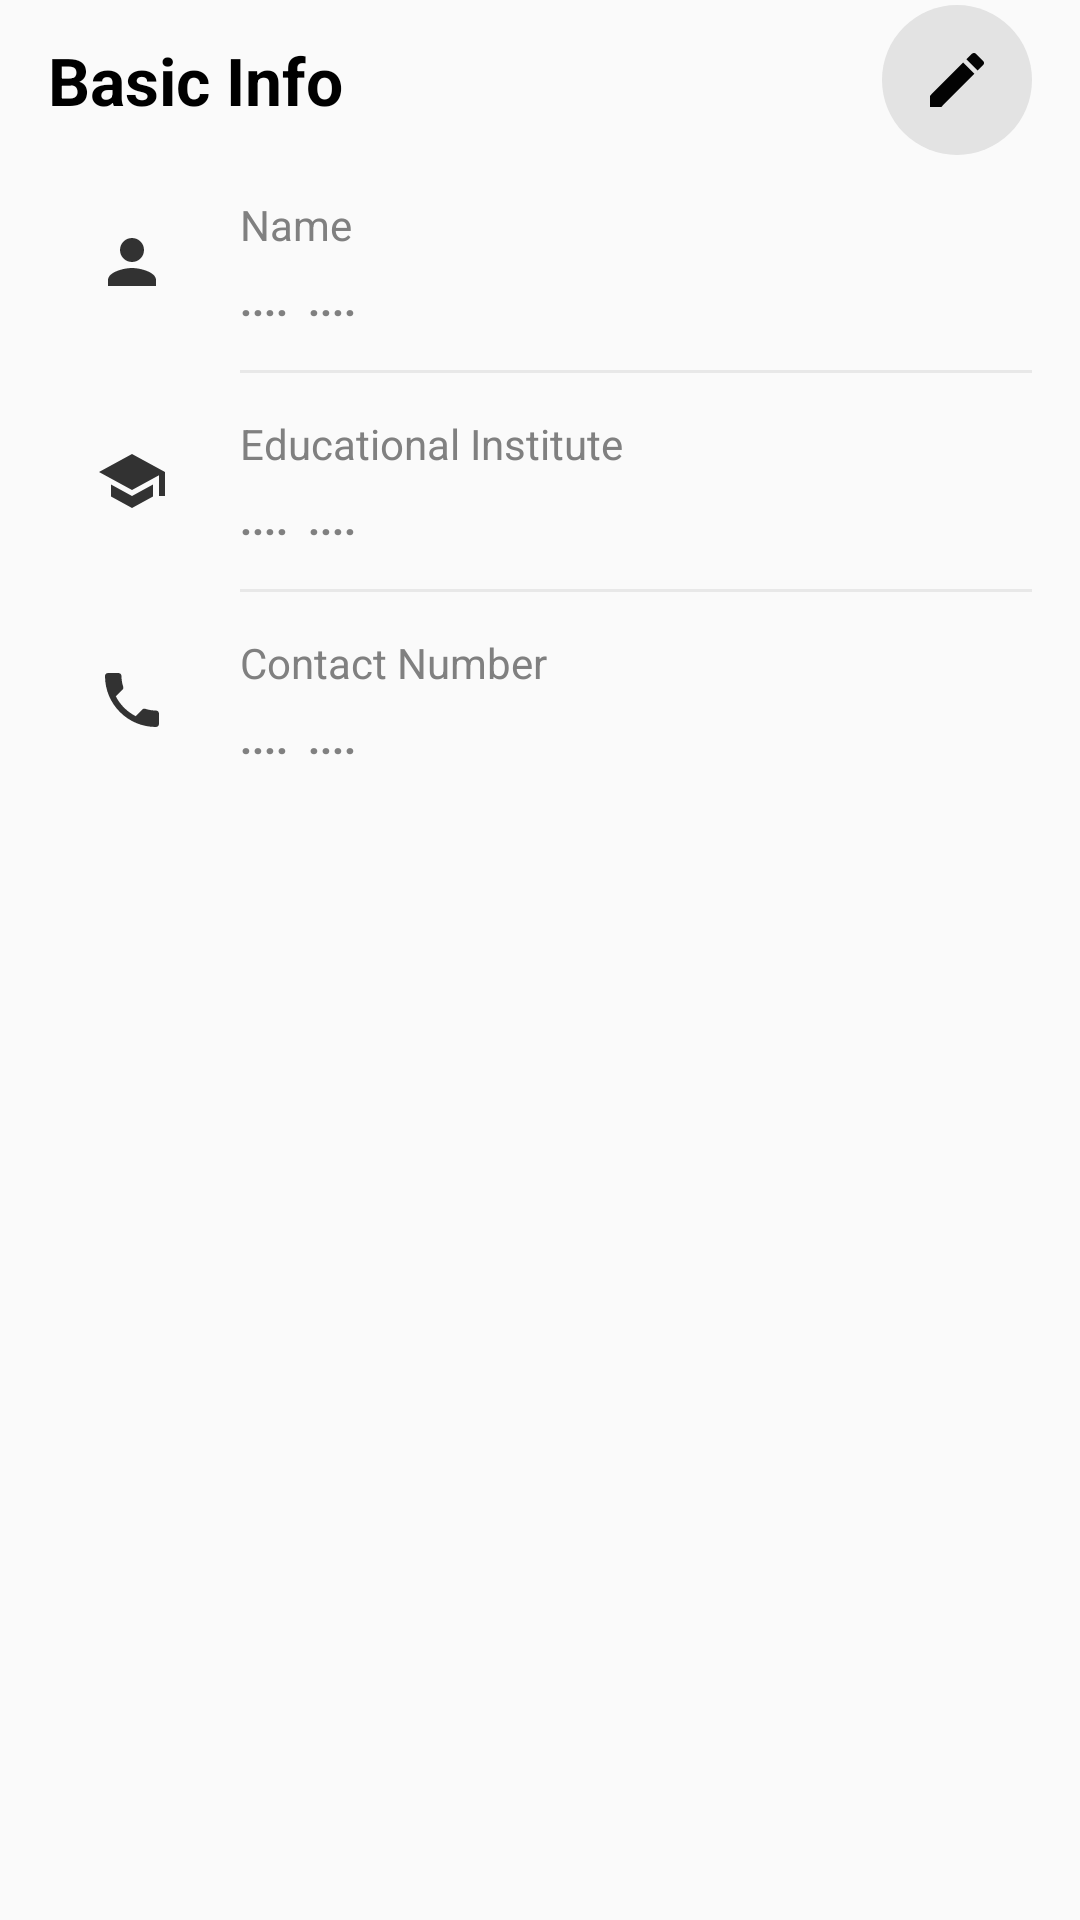

Locate icon controls on the screen. Image size 1080 x 1920, boxes as {"x1": x1, "y1": y1, "x2": x2, "y2": y2}.
pen: {"x1": 882, "y1": 5, "x2": 1032, "y2": 155}
phone: {"x1": 105, "y1": 673, "x2": 159, "y2": 727}
school: {"x1": 99, "y1": 454, "x2": 165, "y2": 508}
